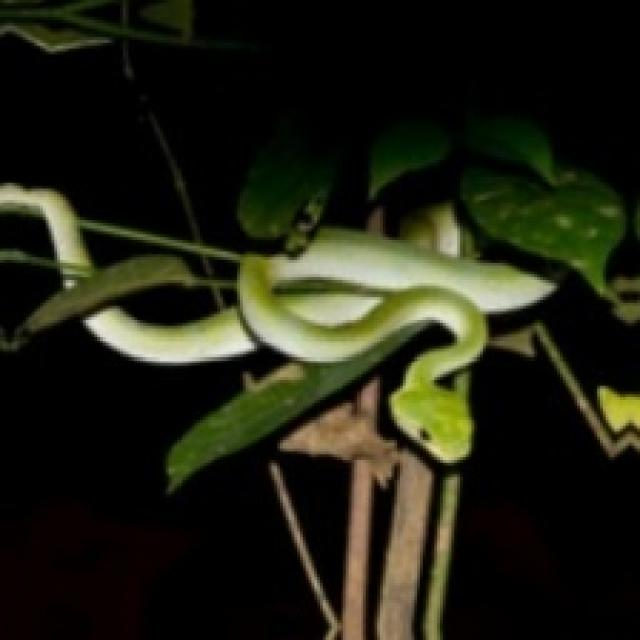north ph temple pitviper: (86, 229, 551, 489), (0, 183, 191, 326)
